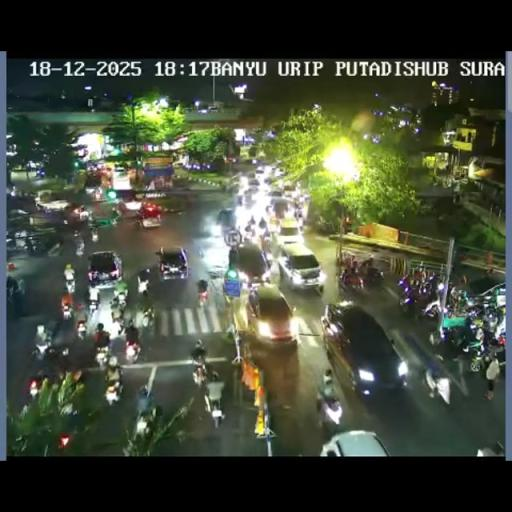Car: (321, 302, 407, 396), (234, 282, 299, 350), (271, 234, 323, 292), (318, 430, 392, 455), (233, 243, 273, 287), (87, 251, 123, 290), (156, 246, 189, 280), (137, 202, 162, 228), (269, 198, 294, 222), (276, 222, 302, 242), (119, 198, 143, 216), (34, 190, 55, 208), (243, 187, 259, 205), (266, 189, 284, 201), (282, 183, 296, 198), (247, 178, 261, 190), (254, 167, 266, 179)
Motorcycle: (88, 306, 146, 387), (398, 274, 442, 318), (462, 326, 504, 372), (432, 321, 470, 361), (316, 387, 342, 429), (48, 315, 78, 351), (61, 383, 83, 432), (422, 366, 450, 404), (202, 380, 225, 426), (134, 386, 154, 432), (55, 350, 80, 382), (339, 267, 365, 291), (449, 280, 469, 309), (104, 375, 123, 405), (360, 265, 384, 288), (462, 302, 486, 324), (28, 372, 48, 398), (192, 358, 209, 388), (474, 440, 504, 457), (490, 309, 506, 339), (94, 343, 112, 368), (112, 284, 129, 310), (124, 339, 141, 363), (220, 319, 235, 346), (216, 207, 235, 228), (32, 339, 50, 361), (315, 216, 337, 234), (140, 304, 154, 330), (86, 289, 100, 313), (110, 314, 124, 338), (61, 293, 74, 318), (46, 239, 64, 257), (196, 284, 209, 308), (6, 275, 18, 301), (75, 318, 87, 340), (64, 274, 76, 294), (137, 278, 149, 298), (25, 237, 37, 256), (293, 204, 304, 222), (226, 181, 238, 197), (245, 225, 257, 240), (260, 229, 270, 245), (78, 208, 89, 222), (18, 278, 26, 297), (90, 226, 99, 242), (73, 301, 84, 314), (75, 242, 85, 256), (94, 188, 102, 202), (484, 266, 494, 276), (236, 194, 244, 206), (247, 215, 255, 227), (301, 192, 309, 203)
